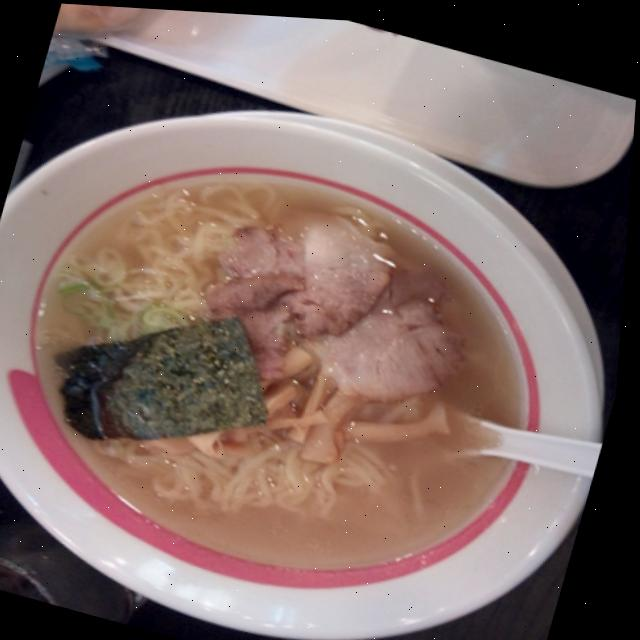面条主食: (0, 30, 638, 640)
